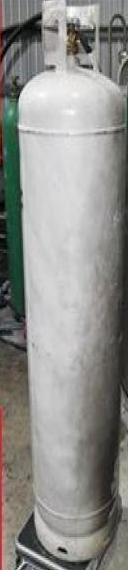cylinder: (1, 1, 128, 570)
